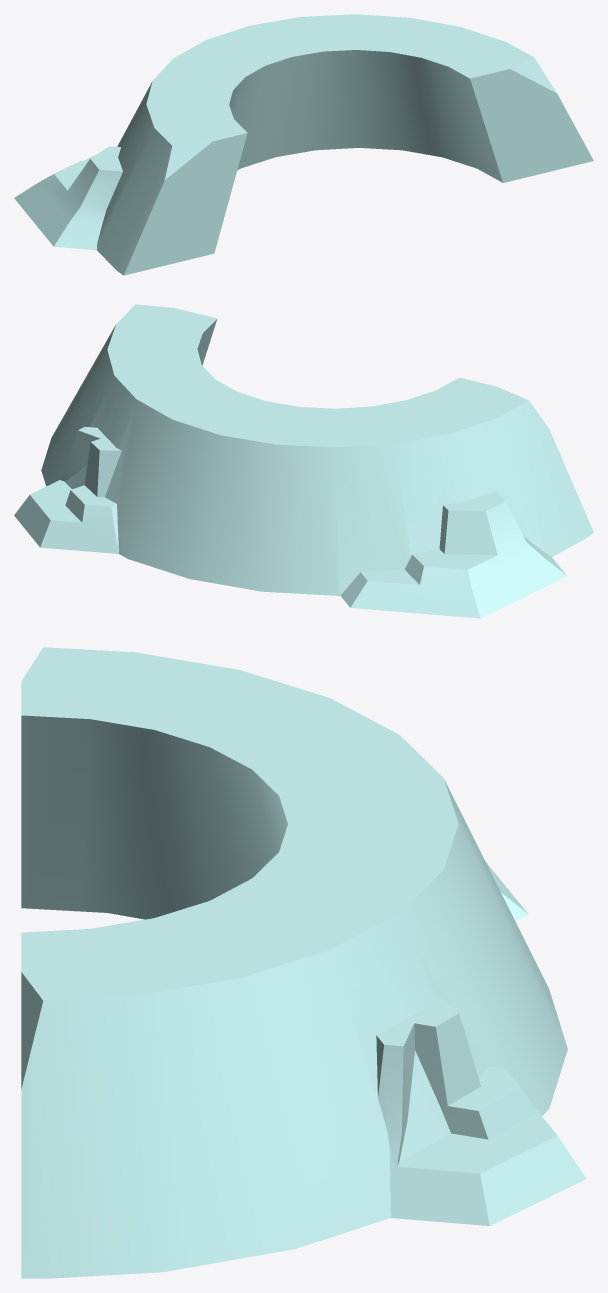
Rendered from snowFort.dae.
The picture shows the model from 3 angles, top to bottom: view 1: azimuth 30°, elevation 25°; view 2: azimuth 150°, elevation 25°; view 3: azimuth 270°, elevation 25°; orthographic projection. The views are drawn at different scales.
Visible parts, largest first — view 1: snowFort; view 2: snowFort; view 3: snowFort.
Part boxes in pixels (x1=…): snowFort: x1=14, y1=14, x2=593, y2=275; snowFort: x1=14, y1=304, x2=593, y2=618; snowFort: x1=21, y1=647, x2=586, y2=1278.
Bounding box in the file's own units: 1.33 × 0.2905 × 0.6613.
